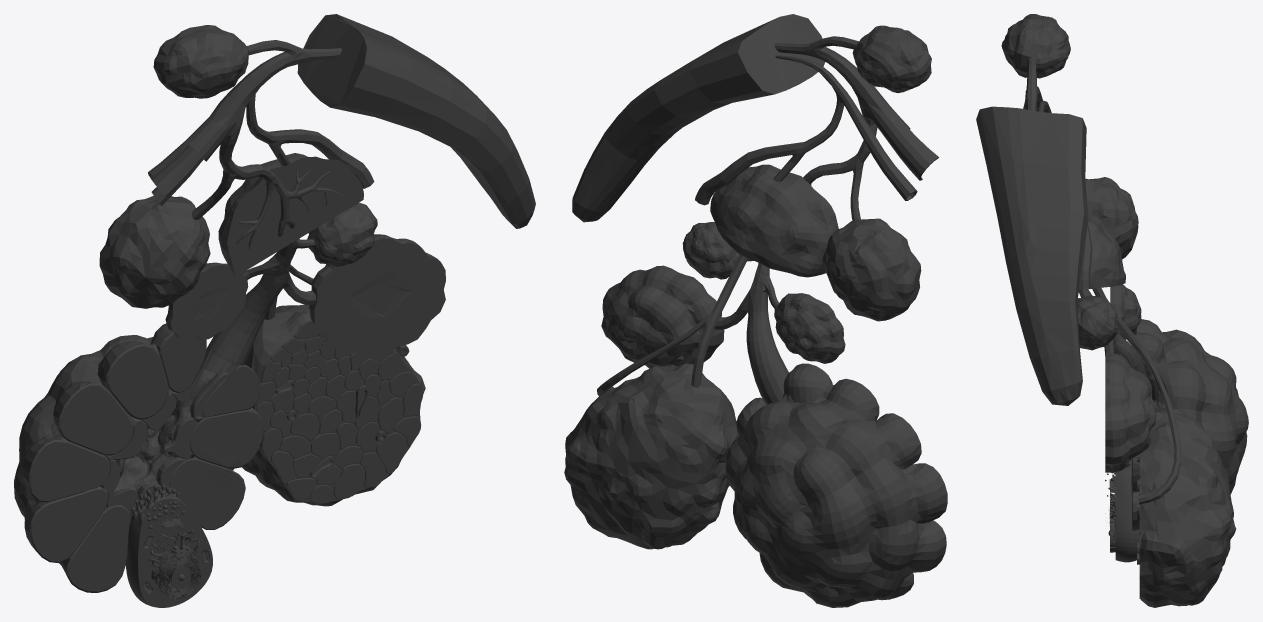
The model's file is sharedassets84.glb.
The picture shows the model from 3 angles, left to right: view 1: azimuth 30°, elevation 25°; view 2: azimuth 150°, elevation 25°; view 3: azimuth 270°, elevation 25°; orthographic projection. The views are drawn at different scales.
Parts seen in each view (by area): view 1: 0014_Pancreatic acinar cells_pancreatic_acini, 0028_Pancreas_pancreatic_acini_and_islets_305, 0018_Beta cells_pancreatic_acini_and_islets_3, 0017_Pancreatic acinus_3_pancreatic_acini_and, 0023_Pancreatic lobule_2_pancreatic_acini_and, 0015_Pancreatic lobule_pancreatic_acini_and_i, 0000_Centroacinar cells_pancreatic_acini_and_, 0009_Intercalated ducts_pancreatic_acini_and_, 0004_Pancreatic lobule_1_pancreatic_acini_and, 0027_Pancreatic duct, main _duct of Wirsung__, 0010__Pancreatic islet _islet of Langerhans__, 0026_Cytoplasm_pancreatic_acini_and_islets_30 (+9 smaller); view 2: 0014_Pancreatic acinar cells_pancreatic_acini, 0010__Pancreatic islet _islet of Langerhans__, 0028_Pancreas_pancreatic_acini_and_islets_305, 0015_Pancreatic lobule_pancreatic_acini_and_i, 0017_Pancreatic acinus_3_pancreatic_acini_and, 0023_Pancreatic lobule_2_pancreatic_acini_and, 0002_Pancreatic branch of splenic artery_panc, 0027_Pancreatic duct, main _duct of Wirsung__, 0004_Pancreatic lobule_1_pancreatic_acini_and, 0009_Intercalated ducts_pancreatic_acini_and_, 0005_Pancreatic acinus_2_pancreatic_acini_and, 0021_Pancreatic acinus_1_pancreatic_acini_and (+2 smaller); view 3: 0028_Pancreas_pancreatic_acini_and_islets_305, 0010__Pancreatic islet _islet of Langerhans__, 0014_Pancreatic acinar cells_pancreatic_acini, 0017_Pancreatic acinus_3_pancreatic_acini_and, 0004_Pancreatic lobule_1_pancreatic_acini_and, 0002_Pancreatic branch of splenic artery_panc, 0023_Pancreatic lobule_2_pancreatic_acini_and, 0015_Pancreatic lobule_pancreatic_acini_and_i, 0021_Pancreatic acinus_1_pancreatic_acini_and, 0026_Cytoplasm_pancreatic_acini_and_islets_30, 0005_Pancreatic acinus_2_pancreatic_acini_and, 0009_Intercalated ducts_pancreatic_acini_and_.
Part boxes in pixels (x1,y1,x2,y2): 0014_Pancreatic acinar cells_pancreatic_acini: (14,323,263,592); 0028_Pancreas_pancreatic_acini_and_islets_305: (297,14,535,228); 0018_Beta cells_pancreatic_acini_and_islets_3: (255,319,423,503); 0017_Pancreatic acinus_3_pancreatic_acini_and: (309,234,445,358); 0023_Pancreatic lobule_2_pancreatic_acini_and: (99,196,210,308); 0015_Pancreatic lobule_pancreatic_acini_and_i: (218,153,363,276); 0000_Centroacinar cells_pancreatic_acini_and_: (100,362,227,517); 0009_Intercalated ducts_pancreatic_acini_and_: (200,169,342,379); 0004_Pancreatic lobule_1_pancreatic_acini_and: (153,25,248,98); 0027_Pancreatic duct, main _duct of Wirsung__: (148,46,341,196); 0010__Pancreatic islet _islet of Langerhans__: (242,305,425,506); 0026_Cytoplasm_pancreatic_acini_and_islets_30: (125,498,212,607); 0014_Pancreatic acinar cells_pancreatic_acini: (725,363,947,607); 0010__Pancreatic islet _islet of Langerhans__: (564,363,738,549); 0028_Pancreas_pancreatic_acini_and_islets_305: (572,14,825,222); 0015_Pancreatic lobule_pancreatic_acini_and_i: (710,164,838,277); 0017_Pancreatic acinus_3_pancreatic_acini_and: (601,265,724,368); 0023_Pancreatic lobule_2_pancreatic_acini_and: (822,218,921,321); 0002_Pancreatic branch of splenic artery_panc: (597,55,917,395); 0027_Pancreatic duct, main _duct of Wirsung__: (774,41,938,180); 0004_Pancreatic lobule_1_pancreatic_acini_and: (852,25,931,92); 0009_Intercalated ducts_pancreatic_acini_and_: (714,258,788,404); 0005_Pancreatic acinus_2_pancreatic_acini_and: (774,293,845,363); 0021_Pancreatic acinus_1_pancreatic_acini_and: (682,222,739,279); 0028_Pancreas_pancreatic_acini_and_islets_305: (976,106,1088,405); 0010__Pancreatic islet _islet of Langerhans__: (1140,407,1236,607); 0014_Pancreatic acinar cells_pancreatic_acini: (1131,319,1248,530); 0017_Pancreatic acinus_3_pancreatic_acini_and: (1105,353,1156,472); 0004_Pancreatic lobule_1_pancreatic_acini_and: (1001,14,1070,78); 0002_Pancreatic branch of splenic artery_panc: (1038,100,1181,504); 0023_Pancreatic lobule_2_pancreatic_acini_and: (1085,177,1138,259); 0015_Pancreatic lobule_pancreatic_acini_and_i: (1079,213,1125,289); 0021_Pancreatic acinus_1_pancreatic_acini_and: (1077,295,1117,350); 0026_Cytoplasm_pancreatic_acini_and_islets_30: (1115,470,1139,562); 0005_Pancreatic acinus_2_pancreatic_acini_and: (1110,284,1141,339); 0009_Intercalated ducts_pancreatic_acini_and_: (1078,289,1146,376).
Size of the model in its own units: 0.3864 by 0.4935 by 0.2293.
1 material, 1 textured.
